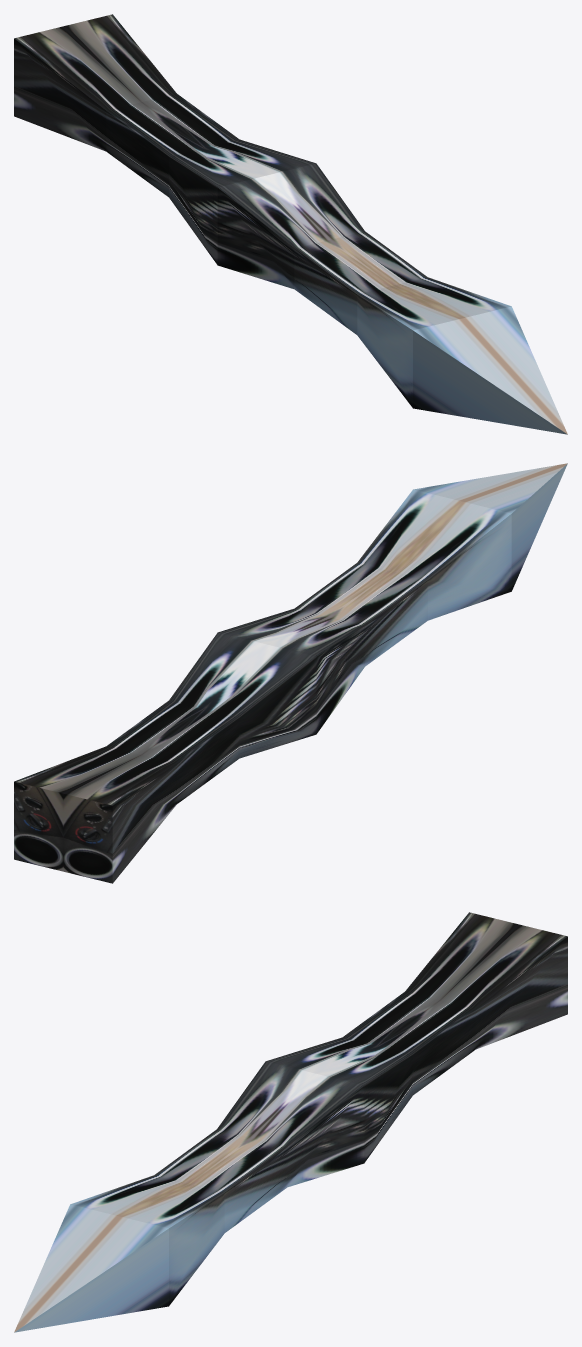
3 views of the same model, one above another, from view 1: azimuth 30°, elevation 25°; view 2: azimuth 150°, elevation 25°; view 3: azimuth 330°, elevation 25° (orthographic).
Parts seen in each view (by area): view 1: Spike.002_Cube.033; view 2: Spike.002_Cube.033; view 3: Spike.002_Cube.033.
Boxes of the visible parts, x1,y1,x2,y2 form: Spike.002_Cube.033: (14, 14, 567, 434); Spike.002_Cube.033: (14, 463, 567, 883); Spike.002_Cube.033: (14, 912, 567, 1332).
Bounding box in the file's own units: 1.39 × 1.05 × 12.34.
